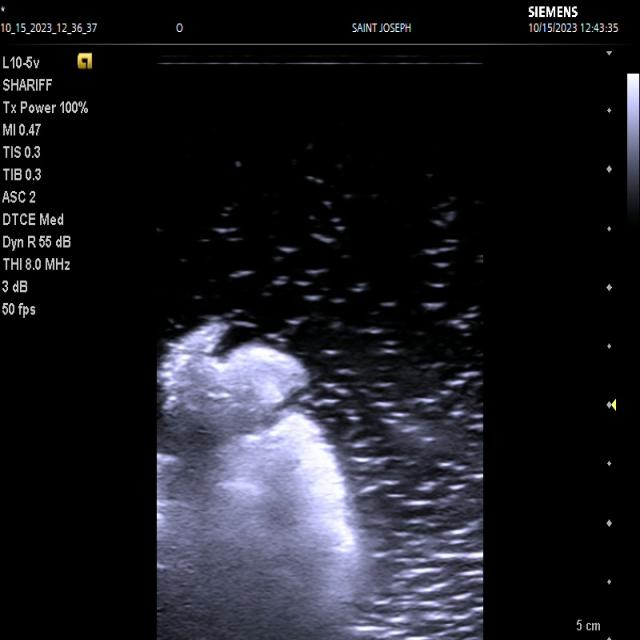tissue: (157, 323, 354, 640)
